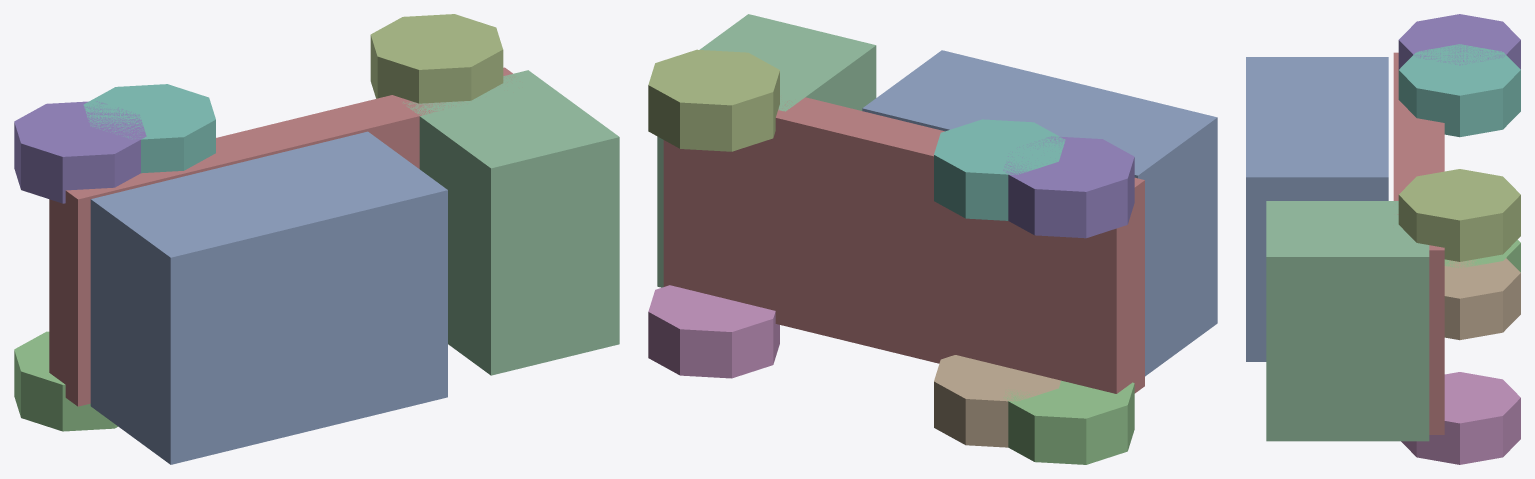
The picture shows the model from 3 angles, left to right: view 1: azimuth 30°, elevation 25°; view 2: azimuth 150°, elevation 25°; view 3: azimuth 270°, elevation 25°; orthographic projection. The views are drawn at different scales.
Parts seen in each view (by area): view 1: part2, part0, part1, part3, part7, part5, part8; view 2: part1, part2, part3, part0, part7, part4, part5, part8, part6; view 3: part0, part2, part3, part5, part4, part1, part6, part7, part8.
Part boxes in pixels (x1,y1,x2,y2): part2: [90, 131, 447, 464]; part0: [402, 70, 619, 375]; part1: [49, 67, 514, 406]; part3: [370, 14, 503, 103]; part7: [14, 101, 146, 203]; part5: [83, 84, 215, 173]; part8: [14, 331, 117, 431]; part1: [663, 97, 1144, 393]; part2: [862, 50, 1217, 376]; part3: [648, 49, 779, 151]; part0: [657, 14, 876, 287]; part7: [1003, 136, 1134, 238]; part4: [648, 285, 779, 378]; part5: [934, 119, 1065, 220]; part8: [1003, 380, 1134, 464]; part6: [934, 355, 1060, 447]; part0: [1266, 201, 1429, 441]; part2: [1246, 57, 1388, 361]; part3: [1398, 169, 1520, 261]; part5: [1398, 44, 1520, 137]; part4: [1401, 372, 1520, 464]; part1: [1393, 52, 1444, 434]; part6: [1444, 258, 1520, 340]; part7: [1398, 14, 1520, 69]; part8: [1444, 239, 1520, 272].
Size of the model in its own units: 4.95 by 2.65 by 2.7.
